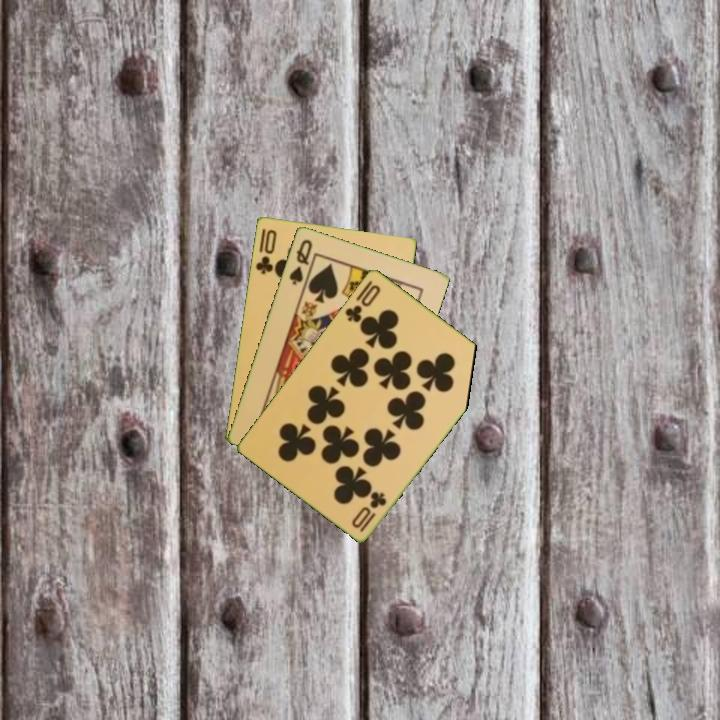10c: (348, 487, 390, 535), (341, 281, 383, 325), (252, 225, 279, 277)
Qs: (285, 235, 315, 288)
